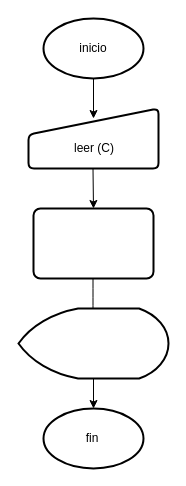
Some shapes in this 186 by 486 pixel diagram are drawn without their labels. The shapes that lost their labels are listed below. From the top down, each one's centre as x and y in pixels, then its label:
the point at 93,243: F=9/5*C+32
the point at 93,343: mostrar C + "en grados Fahrenheit es" + F
